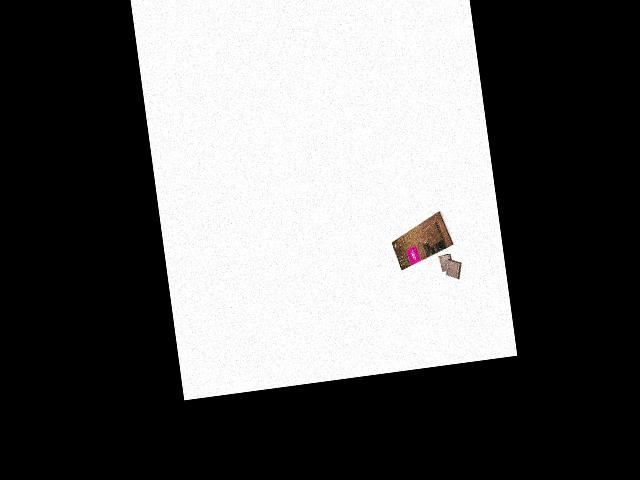chocolate: (387, 209, 457, 272)
